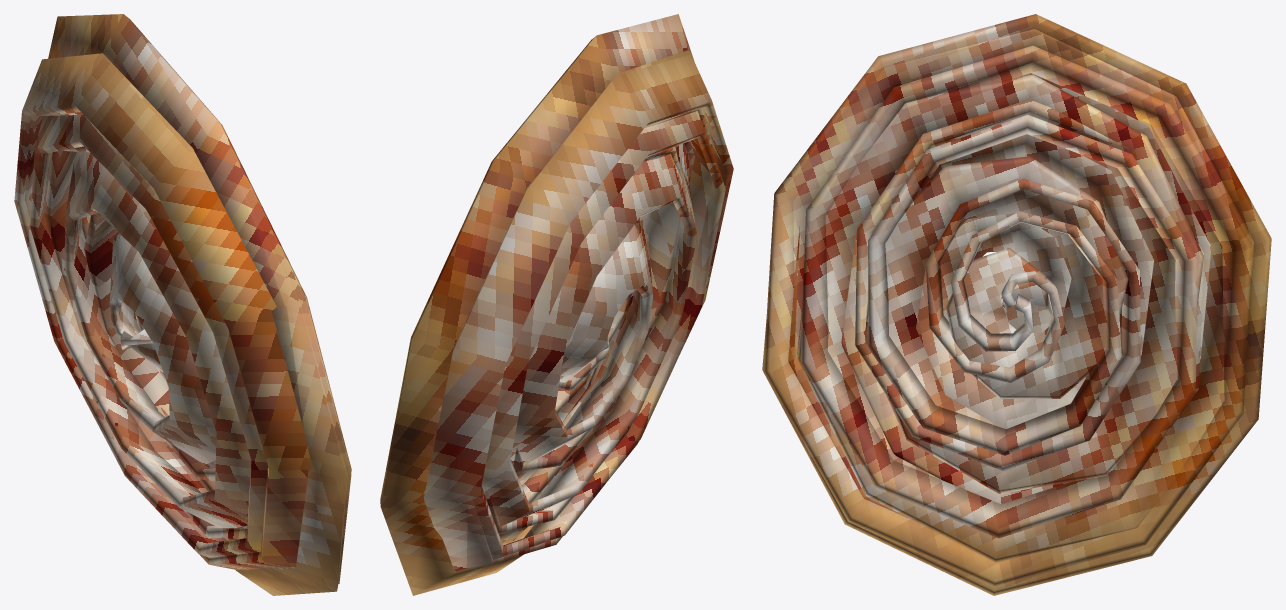
Rendered from H_FunnelCake.fbx.
3 views of the same model, side by side, from view 1: azimuth 30°, elevation 25°; view 2: azimuth 150°, elevation 25°; view 3: azimuth 270°, elevation 25° (orthographic). The views are drawn at different scales.
Parts seen in each view (by area): view 1: FunnelCake; view 2: FunnelCake; view 3: FunnelCake.
Part boxes in pixels (x1,y1,x2,y2): FunnelCake: (14,14,351,595); FunnelCake: (380,14,733,595); FunnelCake: (762,14,1271,595).
Bounding box in the file's own units: 7.21 × 22.52 × 19.71.
